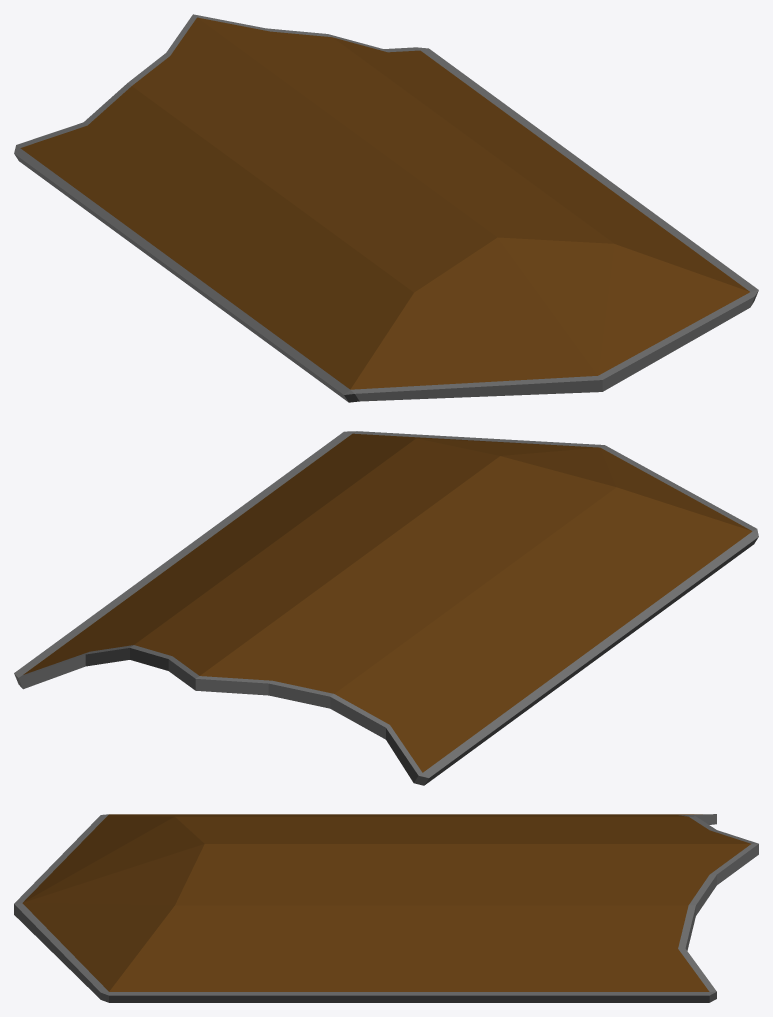
The model's file is shield.fbx.
The picture shows the model from 3 angles, top to bottom: view 1: azimuth 30°, elevation 25°; view 2: azimuth 150°, elevation 25°; view 3: azimuth 270°, elevation 25°; orthographic projection. The views are drawn at different scales.
Parts seen in each view (by area): view 1: shield; view 2: shield; view 3: shield.
Part boxes in pixels (x1,y1,x2,y2): shield: (14, 14, 758, 402); shield: (14, 431, 758, 785); shield: (14, 814, 758, 1002).
Size of the model in its own units: 415 by 74.59 by 710.
